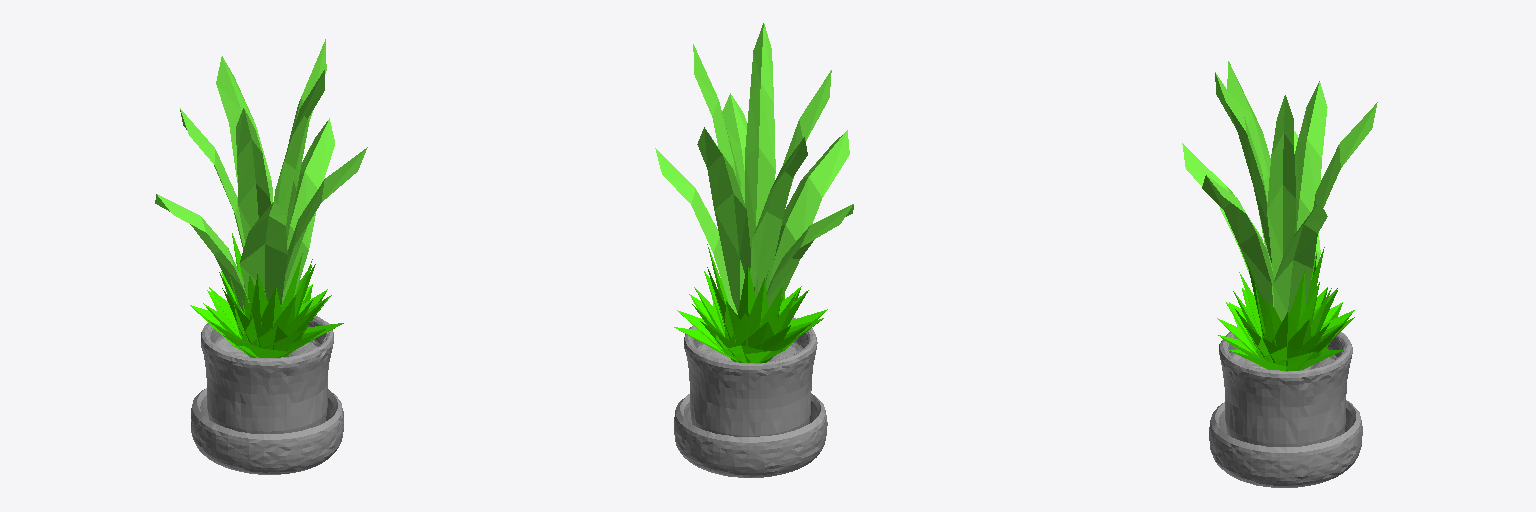
The model's file is plant.obj.
The picture shows the model from 3 angles: view 1: azimuth 30°, elevation 25°; view 2: azimuth 150°, elevation 25°; view 3: azimuth 270°, elevation 25°; orthographic projection.
Parts seen in each view (by area): view 1: Low-Poly_Plant_.001_Cube.000, Low-Poly_Plant__Cube.055; view 2: Low-Poly_Plant_.001_Cube.000, Low-Poly_Plant__Cube.055; view 3: Low-Poly_Plant_.001_Cube.000, Low-Poly_Plant__Cube.055.
Boxes of the visible parts, x1,y1,x2,y2 form: Low-Poly_Plant_.001_Cube.000: [155, 39, 367, 357]; Low-Poly_Plant__Cube.055: [191, 316, 343, 474]; Low-Poly_Plant_.001_Cube.000: [655, 23, 853, 362]; Low-Poly_Plant__Cube.055: [674, 317, 827, 477]; Low-Poly_Plant_.001_Cube.000: [1182, 61, 1377, 370]; Low-Poly_Plant__Cube.055: [1209, 332, 1362, 487].
Size of the model in its own units: 0.6533 by 1.35 by 0.5929.